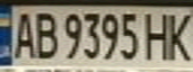3: (78, 9, 103, 61)
5: (118, 9, 145, 61)
9: (60, 9, 84, 61), (100, 9, 121, 62)
A: (9, 8, 36, 61)
B: (30, 8, 60, 61)
H: (142, 8, 175, 62)
K: (163, 8, 193, 62)
